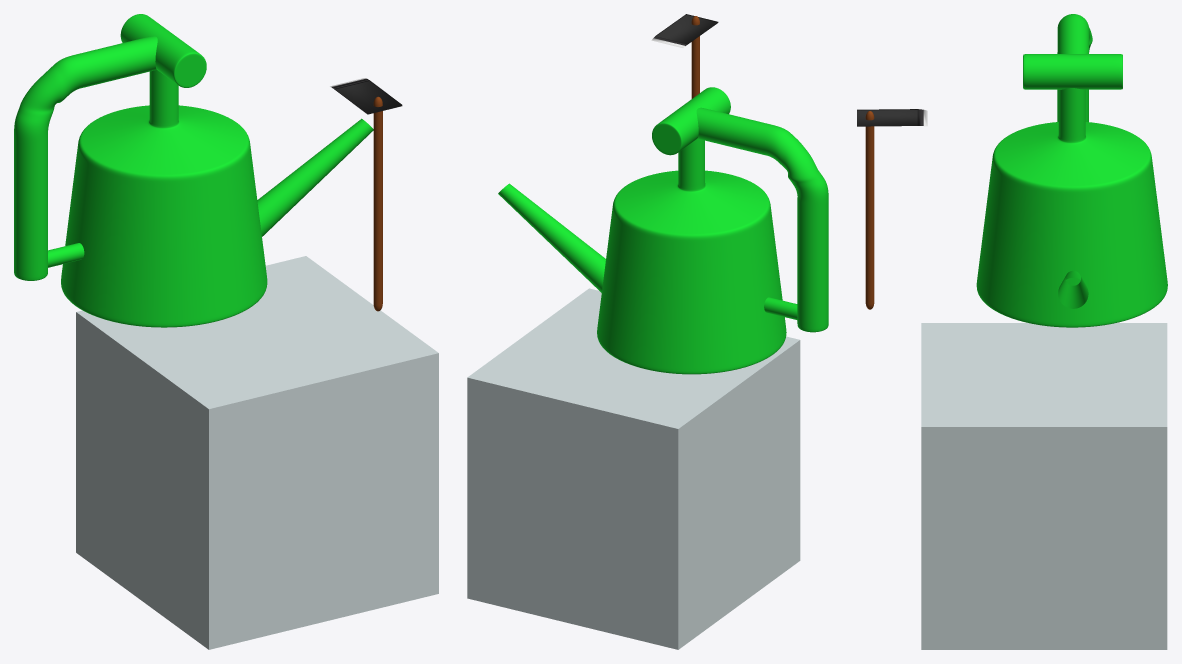
Rendered from prot.glb.
3 views of the same model, side by side, from view 1: azimuth 30°, elevation 25°; view 2: azimuth 150°, elevation 25°; view 3: azimuth 270°, elevation 25° (orthographic). The views are drawn at different scales.
Visible parts, largest first — view 1: Cube, Watering_Can_V2; view 2: Cube, Watering_Can_V2; view 3: Cube, Watering_Can_V2.
Part boxes in pixels (left/top/right/bottom): Cube: left=76, top=256, right=438, bottom=649; Watering_Can_V2: left=14, top=14, right=402, bottom=327; Cube: left=467, top=288, right=800, bottom=649; Watering_Can_V2: left=498, top=14, right=828, bottom=374; Cube: left=921, top=323, right=1167, bottom=649; Watering_Can_V2: left=857, top=14, right=1167, bottom=327.
Size of the model in its own units: 0.2326 by 0.3414 by 0.1897.
